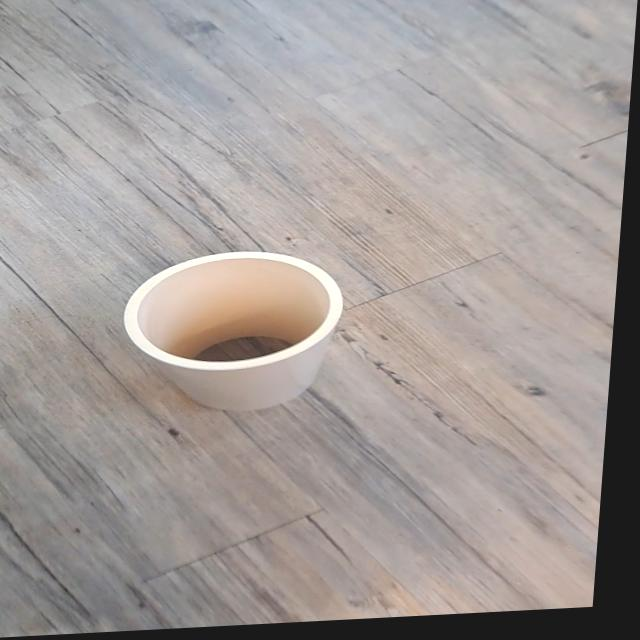CORAL: (81, 223, 413, 429)
